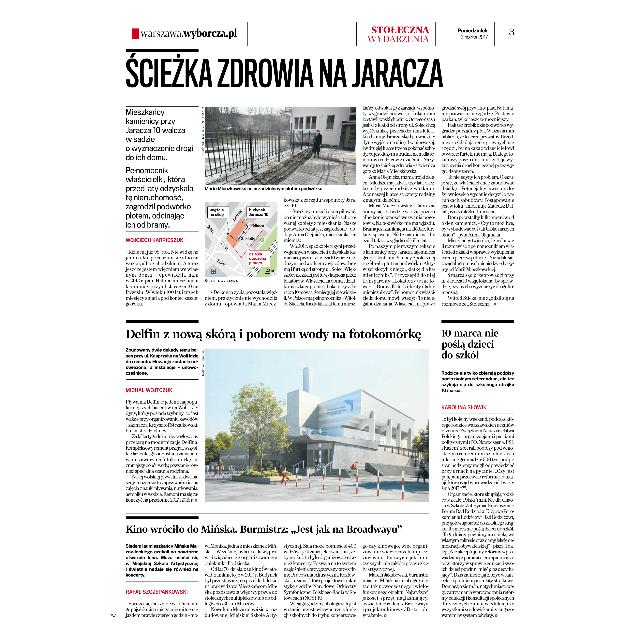article: (124, 48, 518, 312), (122, 318, 432, 506), (124, 514, 432, 622), (440, 319, 520, 621)
